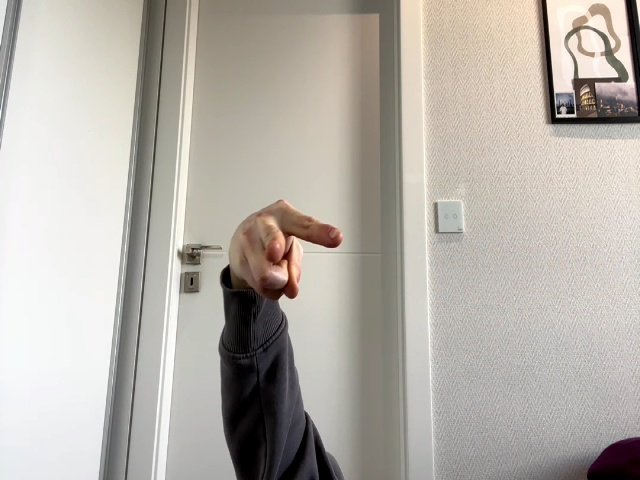U: (229, 199, 342, 300)
